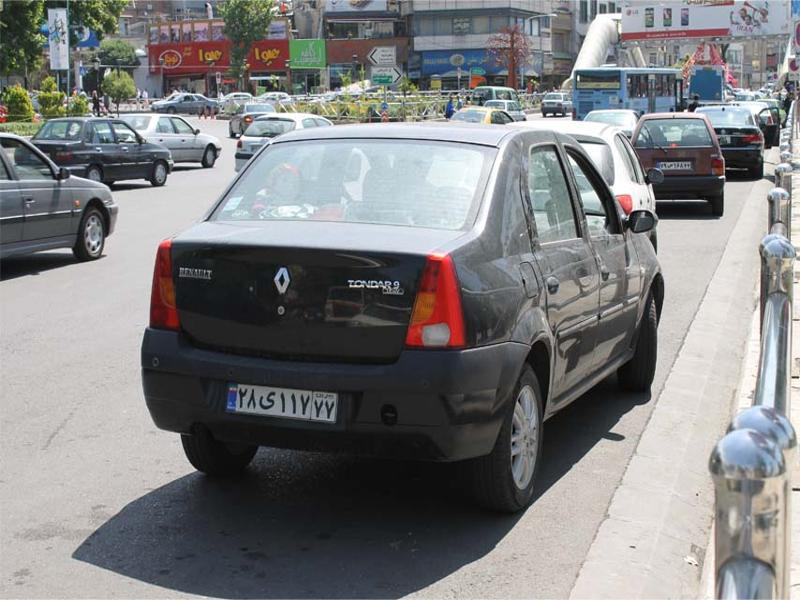Plate: (224, 378, 340, 423)
